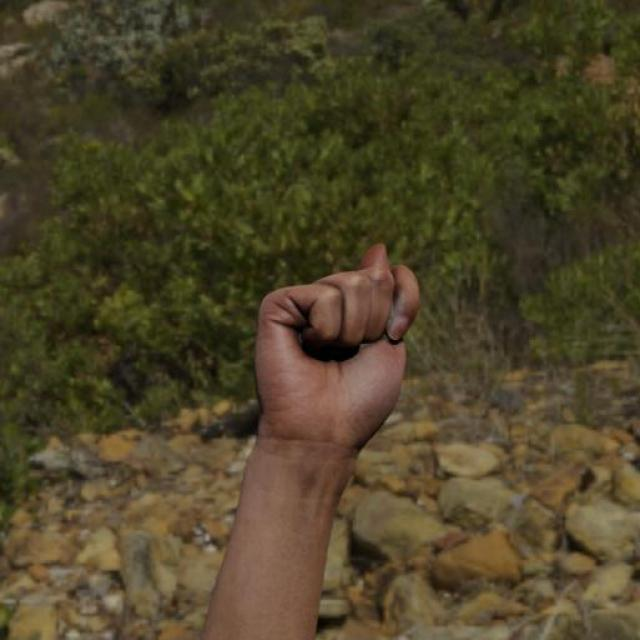T: (246, 238, 425, 442)
